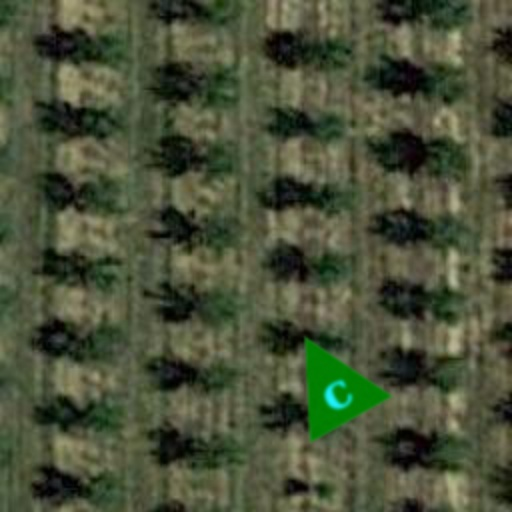triangle: (262, 312, 394, 444)
